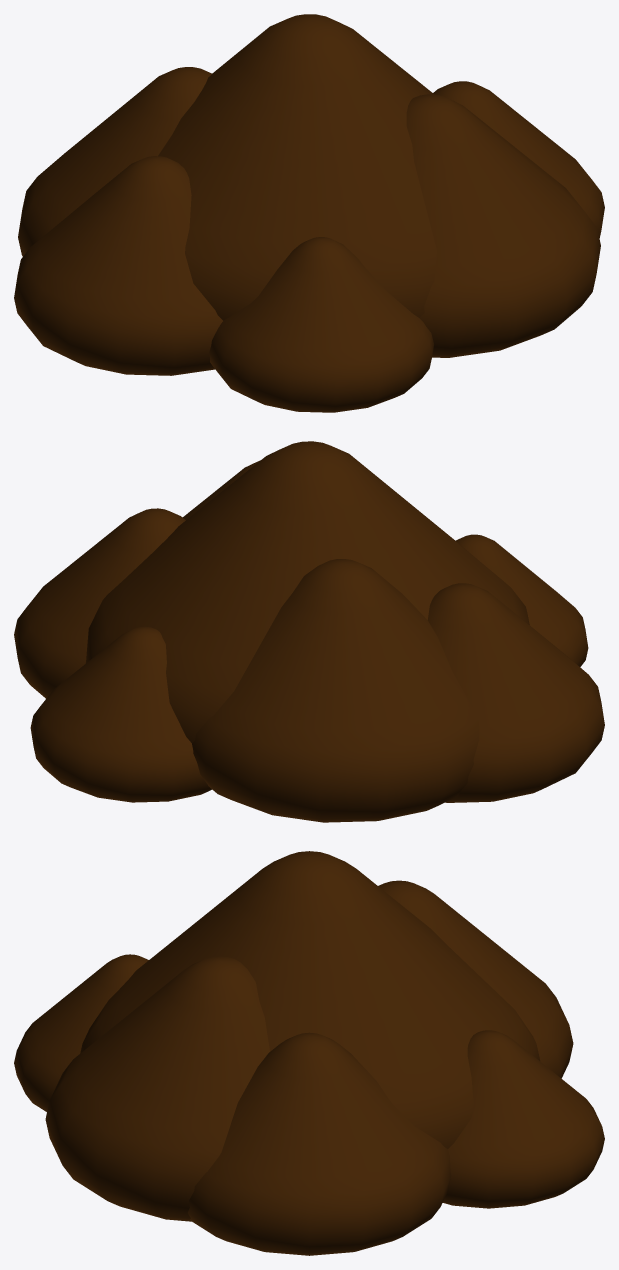
Rendered from LastLuna_Model_Node_Dirt_Soil.fbx.
3 views of the same model, one above another, from view 1: azimuth 30°, elevation 25°; view 2: azimuth 150°, elevation 25°; view 3: azimuth 270°, elevation 25° (orthographic).
Parts seen in each view (by area): view 1: Soil001, Soil_Pile004, Soil_Pile001, Soil_Pile006, Soil_Pile003, Soil_Pile002; view 2: Soil_Pile003, Soil001, Soil_Pile001, Soil_Pile005, Soil_Pile002, Soil_Pile006; view 3: Soil001, Soil_Pile002, Soil_Pile004, Soil_Pile005, Soil_Pile003, Soil_Pile006.
Boxes of the visible parts, x1,y1,x2,y2 form: Soil001: [158, 14, 436, 320]; Soil_Pile004: [406, 94, 600, 357]; Soil_Pile001: [14, 156, 222, 375]; Soil_Pile006: [209, 237, 433, 412]; Soil_Pile003: [18, 67, 211, 256]; Soil_Pile002: [433, 81, 604, 238]; Soil_Pile003: [192, 559, 479, 822]; Soil001: [85, 441, 529, 742]; Soil_Pile001: [428, 583, 604, 802]; Soil_Pile005: [30, 626, 211, 802]; Soil_Pile002: [14, 508, 185, 698]; Soil_Pile006: [456, 534, 588, 667]; Soil001: [80, 851, 540, 1148]; Soil_Pile002: [188, 1032, 451, 1255]; Soil_Pile004: [45, 956, 269, 1221]; Soil_Pile005: [442, 1030, 604, 1208]; Soil_Pile003: [378, 880, 573, 1078]; Soil_Pile006: [14, 954, 148, 1111].
Bounding box in the file's own units: 35.64 × 16.7 × 32.45.
